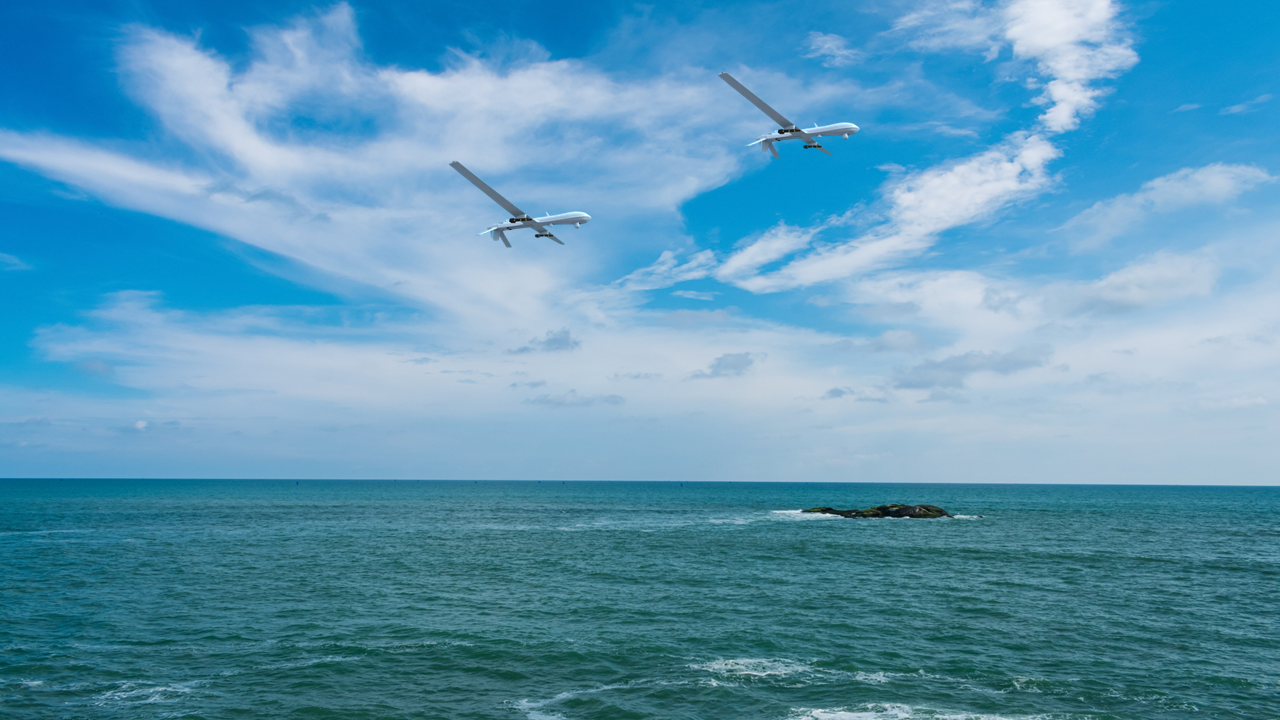military drone: (717, 71, 860, 158), (449, 160, 591, 247)
